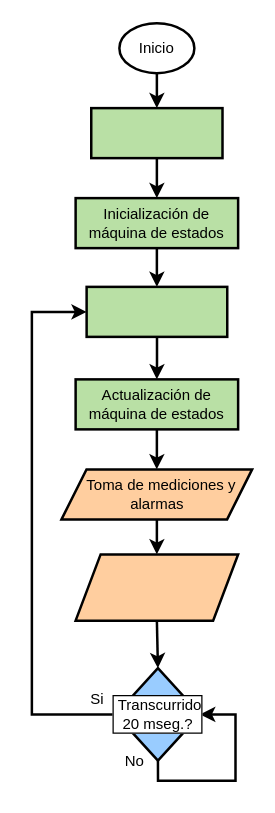
This 275x813 diagram has some shape labels left out. Here are the shapes that lost their labels. From the top down, the centre of each, then its label:
(156,132): Inicialización de variables locales
(156,311): Generación de nuevo evento
(156,586): Toma de semáforo: envío de datos y mediciones
